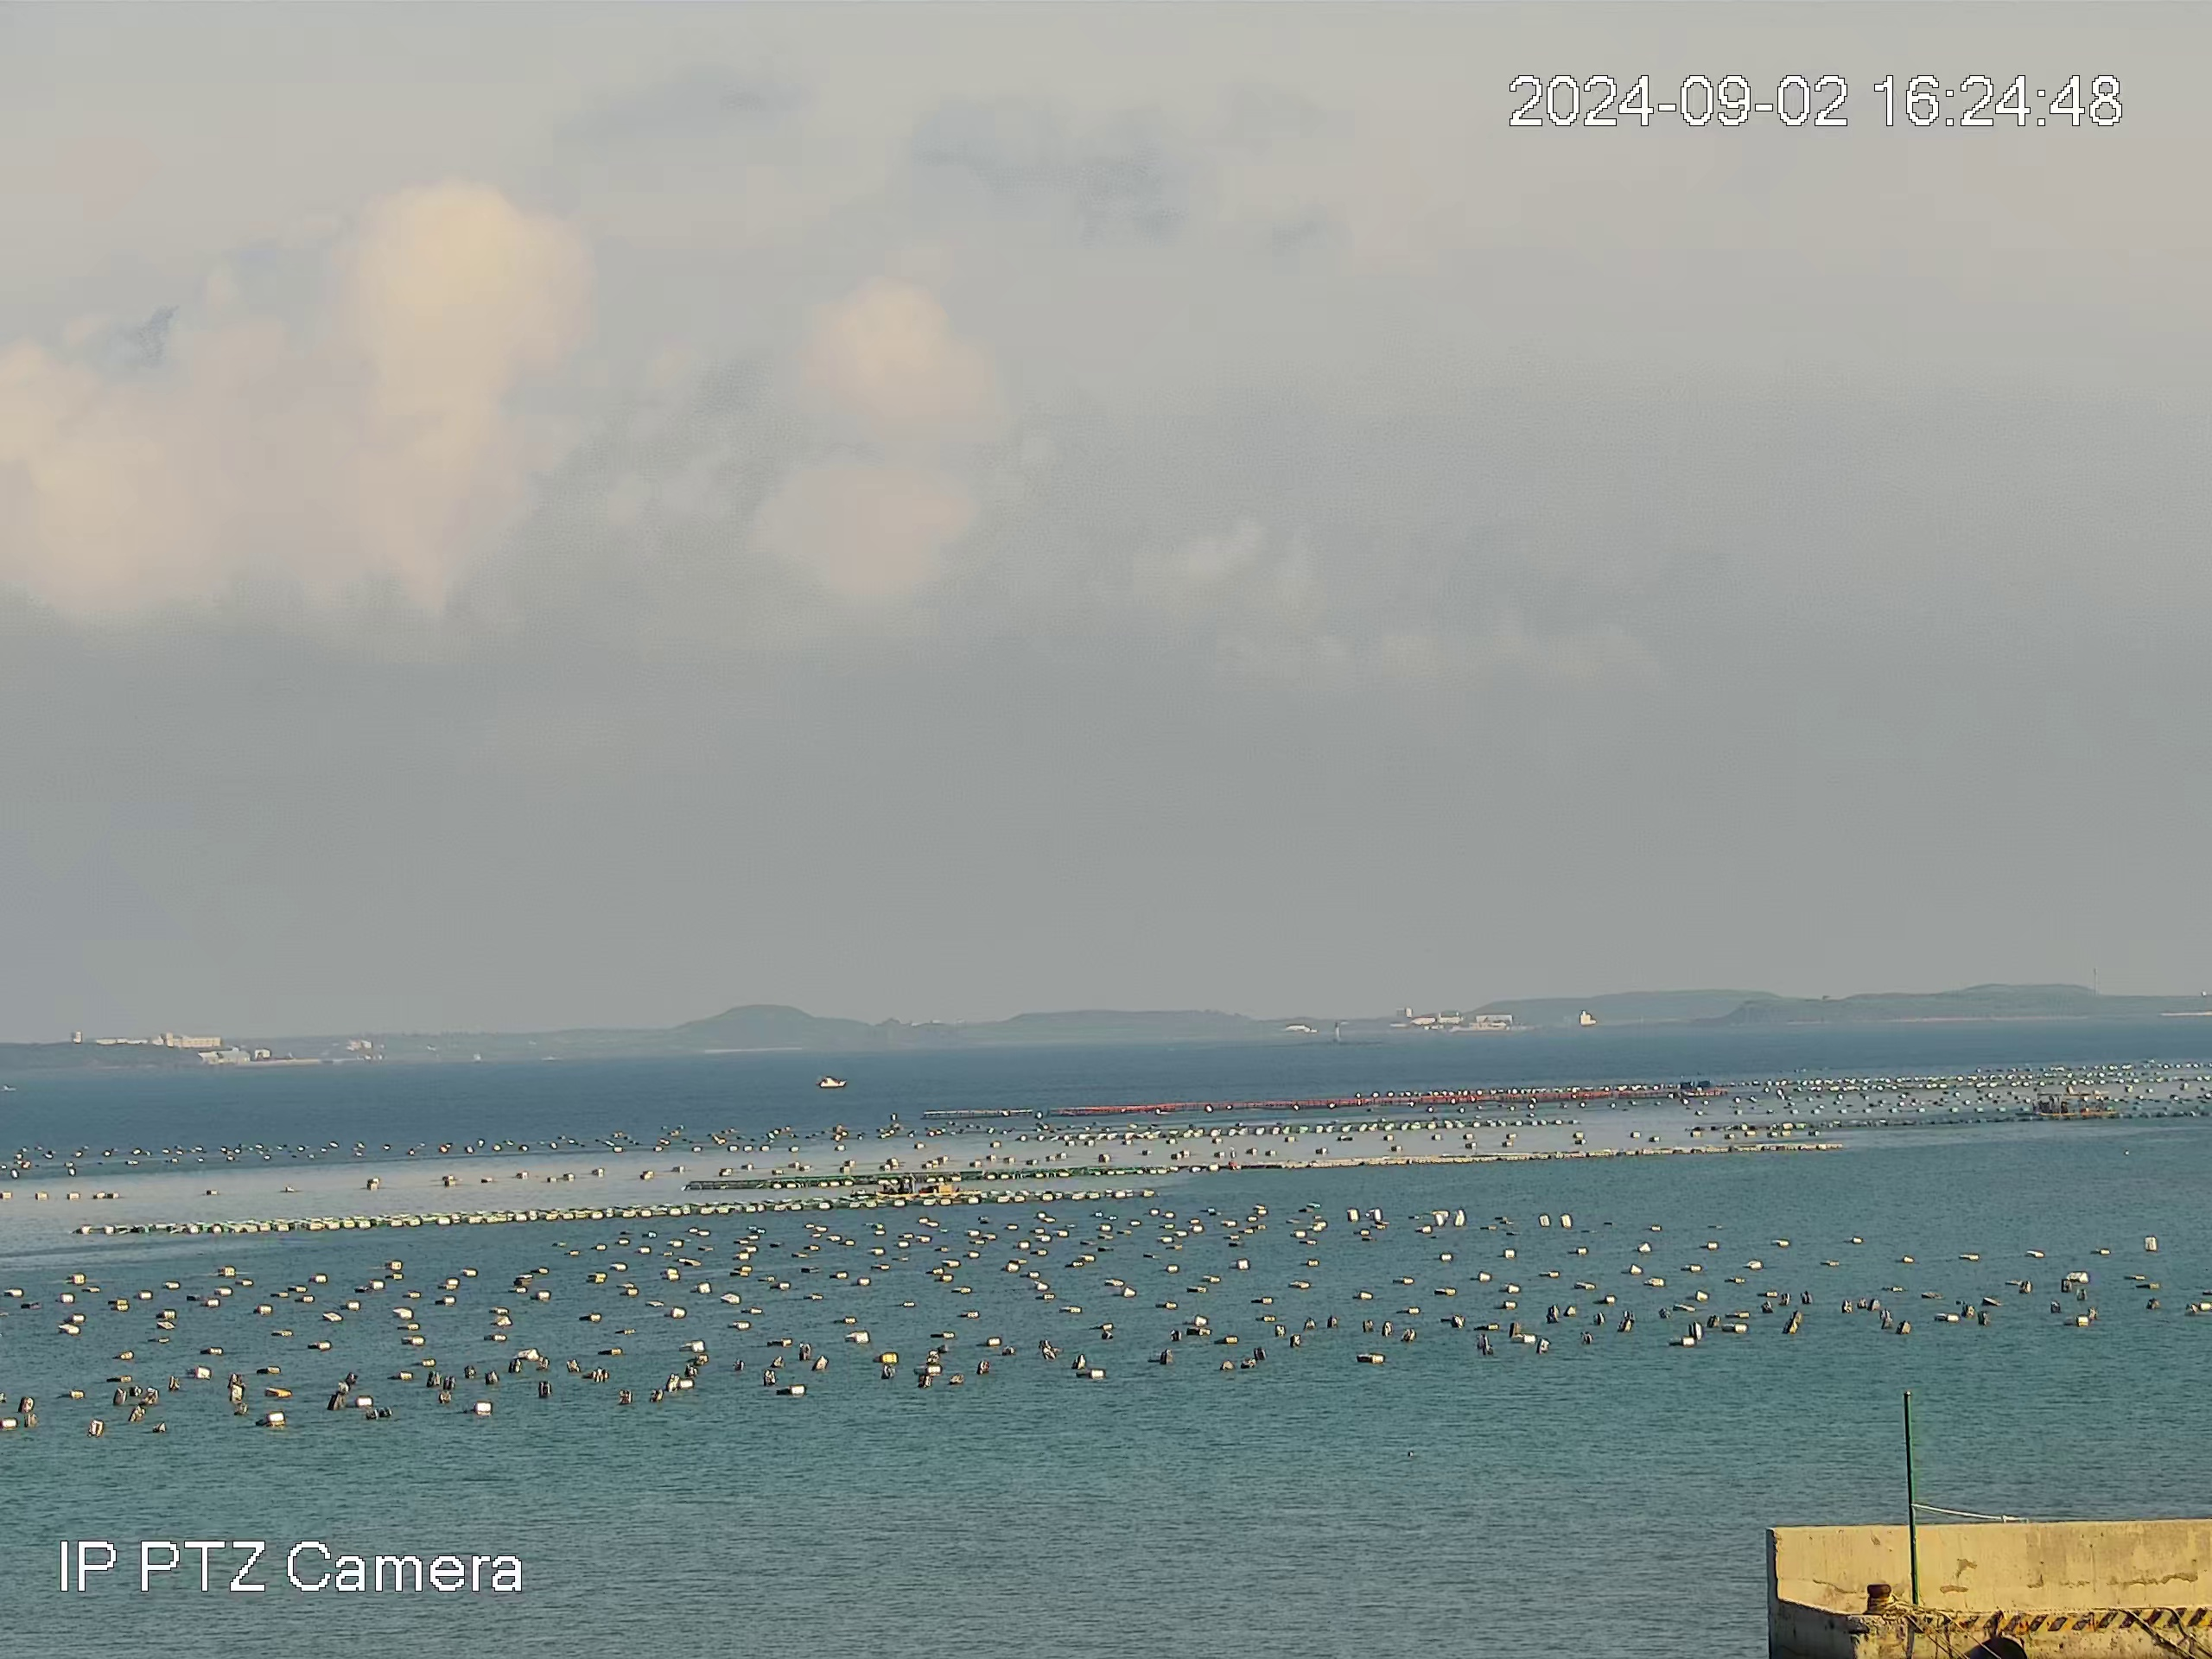boat: (874, 1173, 982, 1199), (2033, 1089, 2114, 1119), (817, 1073, 848, 1089)
